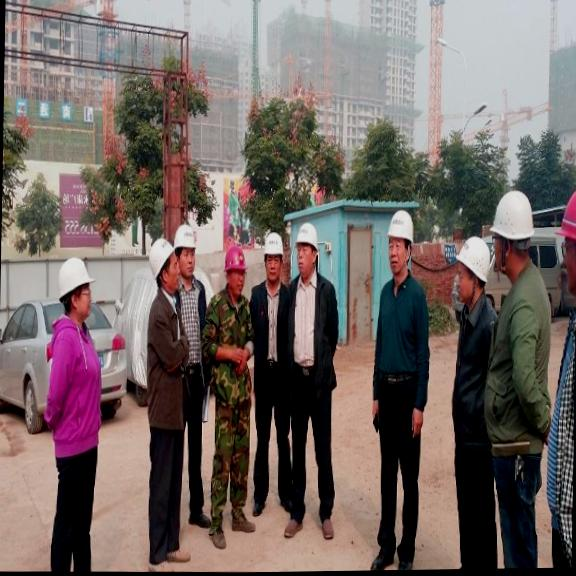no_safety_vest: (488, 263, 550, 465), (42, 315, 102, 473), (545, 267, 576, 544), (370, 276, 432, 396), (146, 290, 190, 434), (449, 291, 488, 442), (284, 275, 334, 388), (206, 291, 249, 397), (251, 280, 290, 382), (180, 274, 204, 378)
